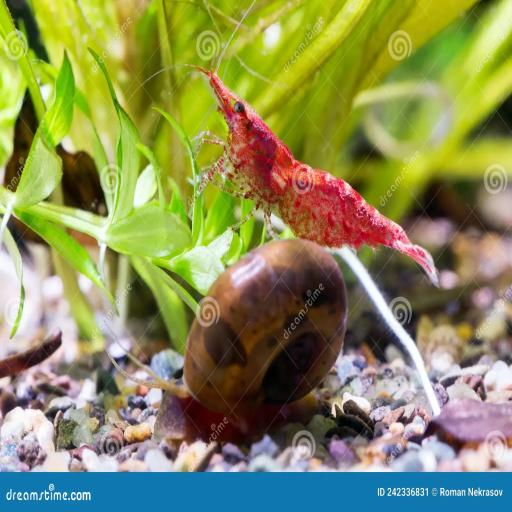Shrimp: (133, 0, 461, 286)
Snail: (108, 237, 398, 436)
